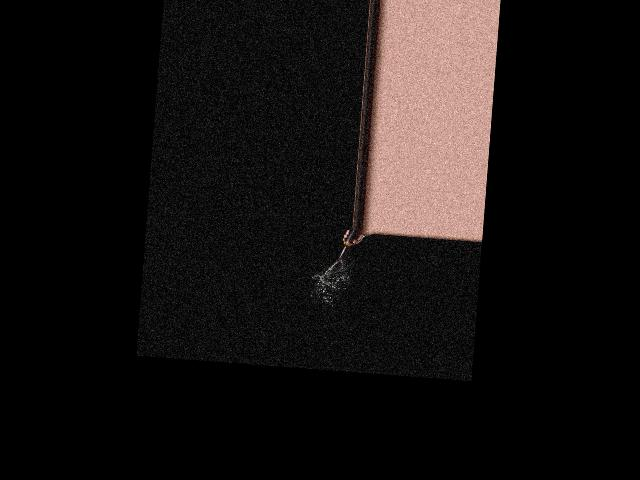beer: (338, 225, 364, 261)
